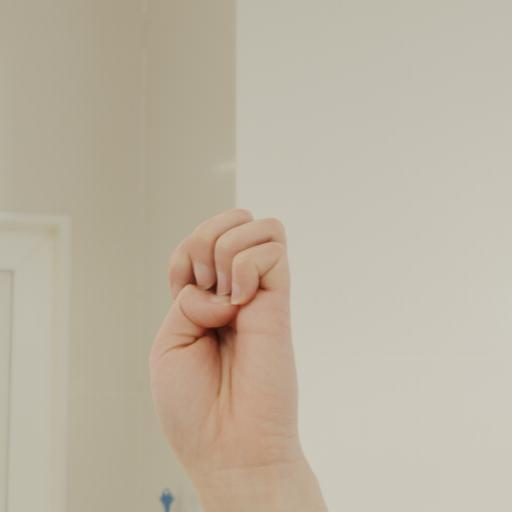E: (139, 198, 311, 512)
